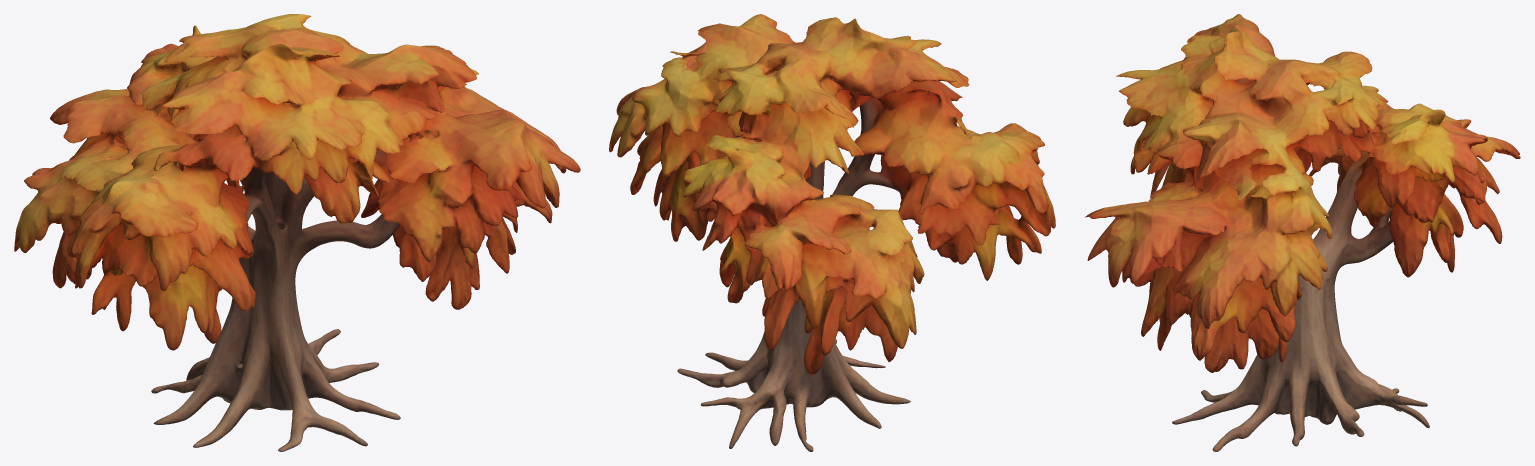
The model's file is trees_autumn.glb.
The picture shows the model from 3 angles, left to right: view 1: azimuth 30°, elevation 25°; view 2: azimuth 150°, elevation 25°; view 3: azimuth 270°, elevation 25°; orthographic projection. The views are drawn at different scales.
Visible parts, largest first — view 1: world; view 2: world; view 3: world.
Part boxes in pixels (x1,y1,x2,y2): world: (14, 14, 580, 451); world: (609, 14, 1055, 451); world: (1085, 14, 1520, 451).
Bounding box in the file's own units: 0.996 × 0.7992 × 0.8306.
